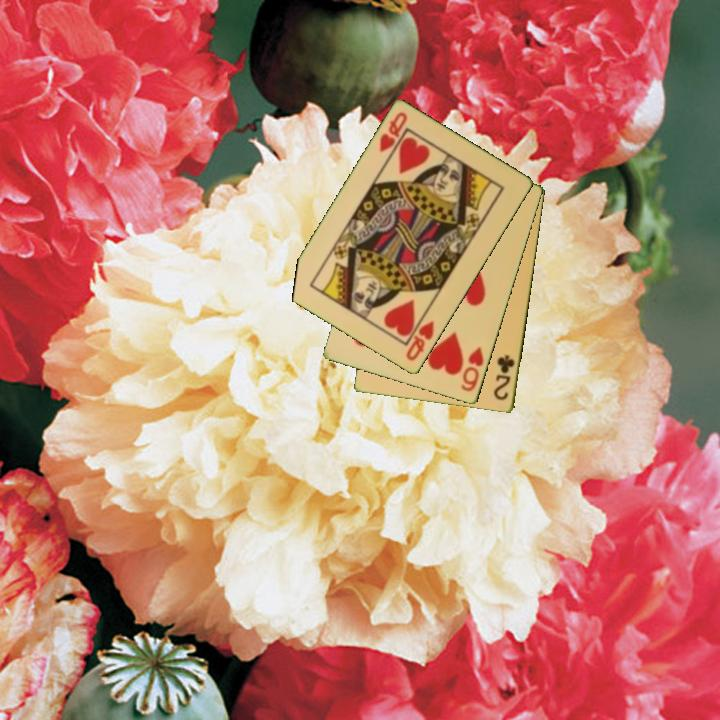2c: (490, 352, 518, 403)
6h: (457, 344, 487, 395)
Qh: (402, 311, 437, 364), (376, 109, 411, 156)
